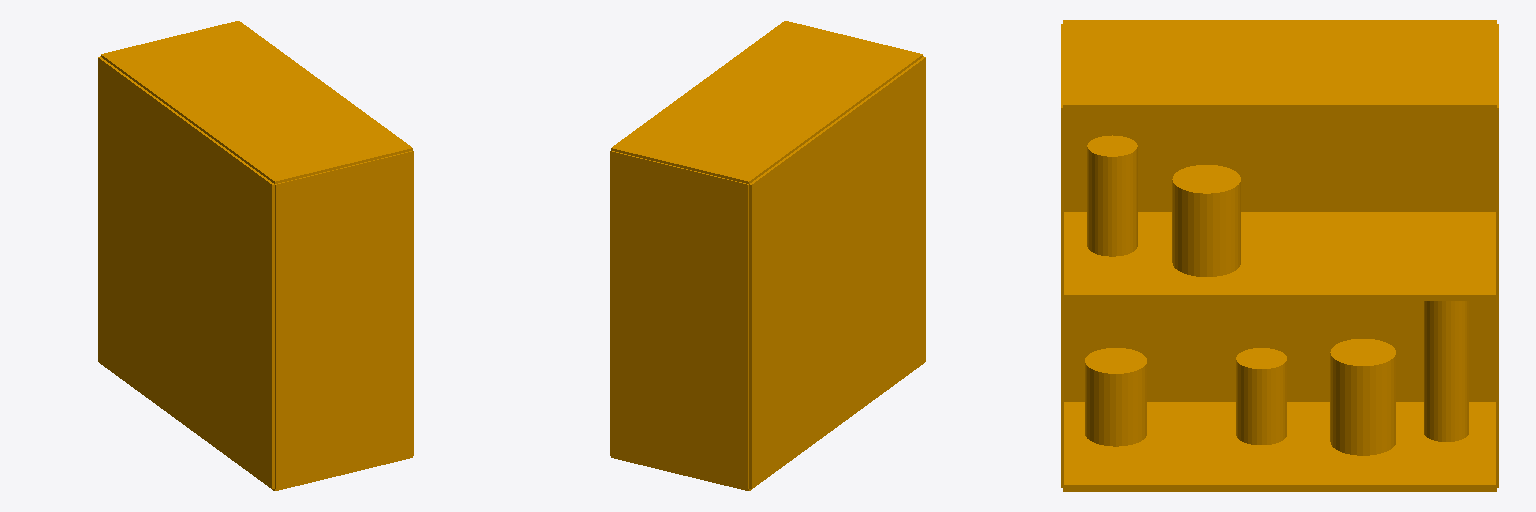
robot.urdf — syn_can_cabinet_1179:
<?xml version="1.0" ?>
<robot name="syn_can_cabinet_1179">
    <link concave="yes" name="base_link">
        <inertial>
            <origin rpy="0 0 0" xyz="0 0 0"/>
            <mass value="0.0"/>
            <inertia ixx="1e-08" ixy="0" ixz="0" iyy="1e-08" iyz="0" izz="1e-08"/>
        </inertial>
        <visual>
            <origin xyz="0 0 0" rpy="0 0 0" />
            <geometry>
                <mesh filename="syn_can_cabinet_1179.obj" scale="1.000000 1.000000 1.000000"/>
            </geometry>         
        </visual>

        <collision concave="yes">
            <origin xyz="0 0 0" rpy="0 0 0"/>
            <geometry>
                <mesh filename="syn_can_cabinet_1179.obj" scale="1.000000 1.000000 1.000000"/>
            </geometry>
        </collision>
    </link>
</robot>
    

--- Render facts (derived) ---
Views: 3 orthographic renders of the robot side by side, from view 1: azimuth 30°, elevation 25°; view 2: azimuth 150°, elevation 25°; view 3: azimuth 270°, elevation 25°.
Model syn_can_cabinet_1179 with 1 links and 0 joints (none), rooted at base_link, posed every joint at zero.
Visible links, largest first — view 1: base_link; view 2: base_link; view 3: base_link.
Link boxes in pixels (x1=…): base_link: x1=98, y1=21, x2=413, y2=490; base_link: x1=610, y1=21, x2=925, y2=490; base_link: x1=1061, y1=20, x2=1498, y2=491.
Size in the robot's own frame: 0.1814 by 0.3918 by 0.3815 metres.
1 mesh visuals loaded from 1 distinct referenced files (1 OBJ).
